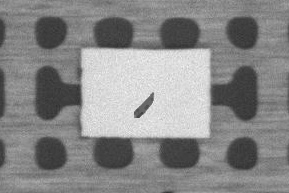DIE_INK: (131, 90, 157, 119)
